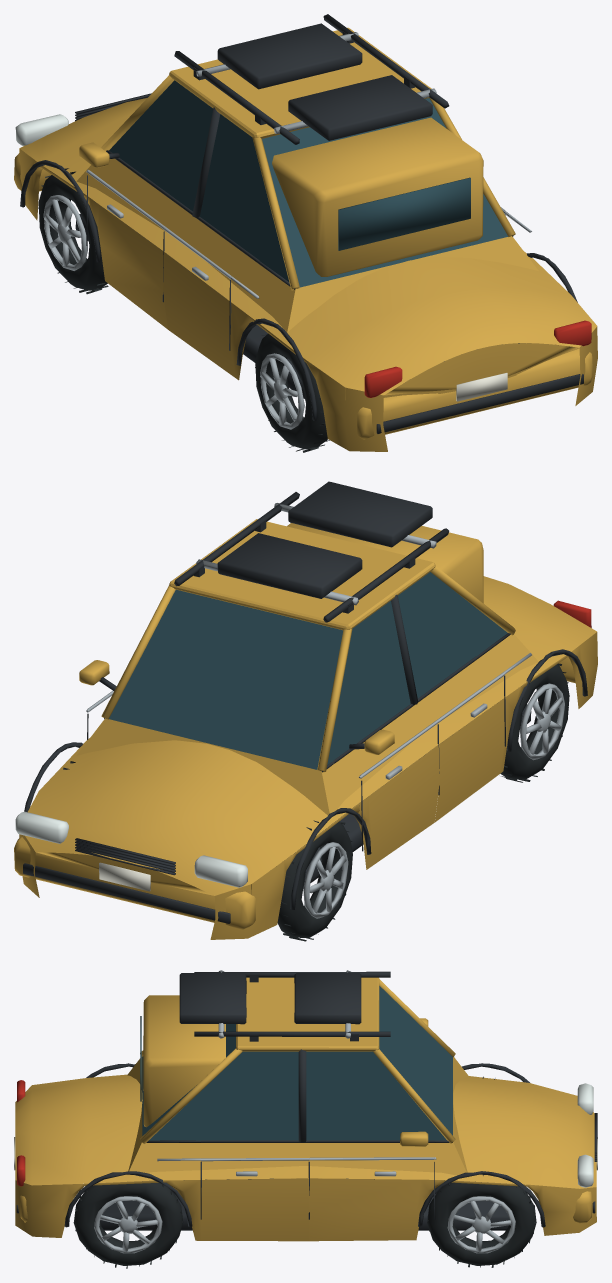
3 renders of one model, top to bottom at view 1: azimuth 30°, elevation 25°; view 2: azimuth 150°, elevation 25°; view 3: azimuth 270°, elevation 25°, orthographic. The views are drawn at different scales.
Visible parts, largest first — view 1: utility_car_body, utility_car_front_left_door, utility_car_rear_left_door, utility_car_rear_left_wheel, utility_car_front_left_wheel; view 2: utility_car_body, utility_car_front_left_door, utility_car_rear_left_door, utility_car_front_left_wheel, utility_car_rear_left_wheel, utility_car_front_right_door; view 3: utility_car_body, utility_car_front_right_door, utility_car_rear_right_door, utility_car_rear_right_wheel, utility_car_front_right_wheel.
Boxes of the visible parts, box(x1,y1,x2,y2) form: utility_car_body: box(14, 14, 597, 451); utility_car_front_left_door: box(79, 80, 213, 329); utility_car_rear_left_door: box(162, 114, 270, 377); utility_car_rear_left_wheel: box(255, 333, 329, 452); utility_car_front_left_wheel: box(38, 168, 108, 294); utility_car_body: box(14, 481, 597, 939); utility_car_front_left_door: box(330, 602, 439, 869); utility_car_rear_left_door: box(389, 572, 505, 822); utility_car_front_left_wheel: box(277, 820, 352, 941); utility_car_rear_left_wheel: box(500, 663, 569, 782); utility_car_front_right_door: box(79, 660, 116, 739); utility_car_body: box(14, 970, 597, 1240); utility_car_front_right_door: box(309, 1051, 435, 1241); utility_car_rear_right_door: box(200, 1051, 309, 1241); utility_car_rear_right_wheel: box(73, 1183, 183, 1268); utility_car_front_right_wheel: box(427, 1175, 536, 1267).
Bounding box in the file's own units: 1.7 × 1.5 × 3.5.
